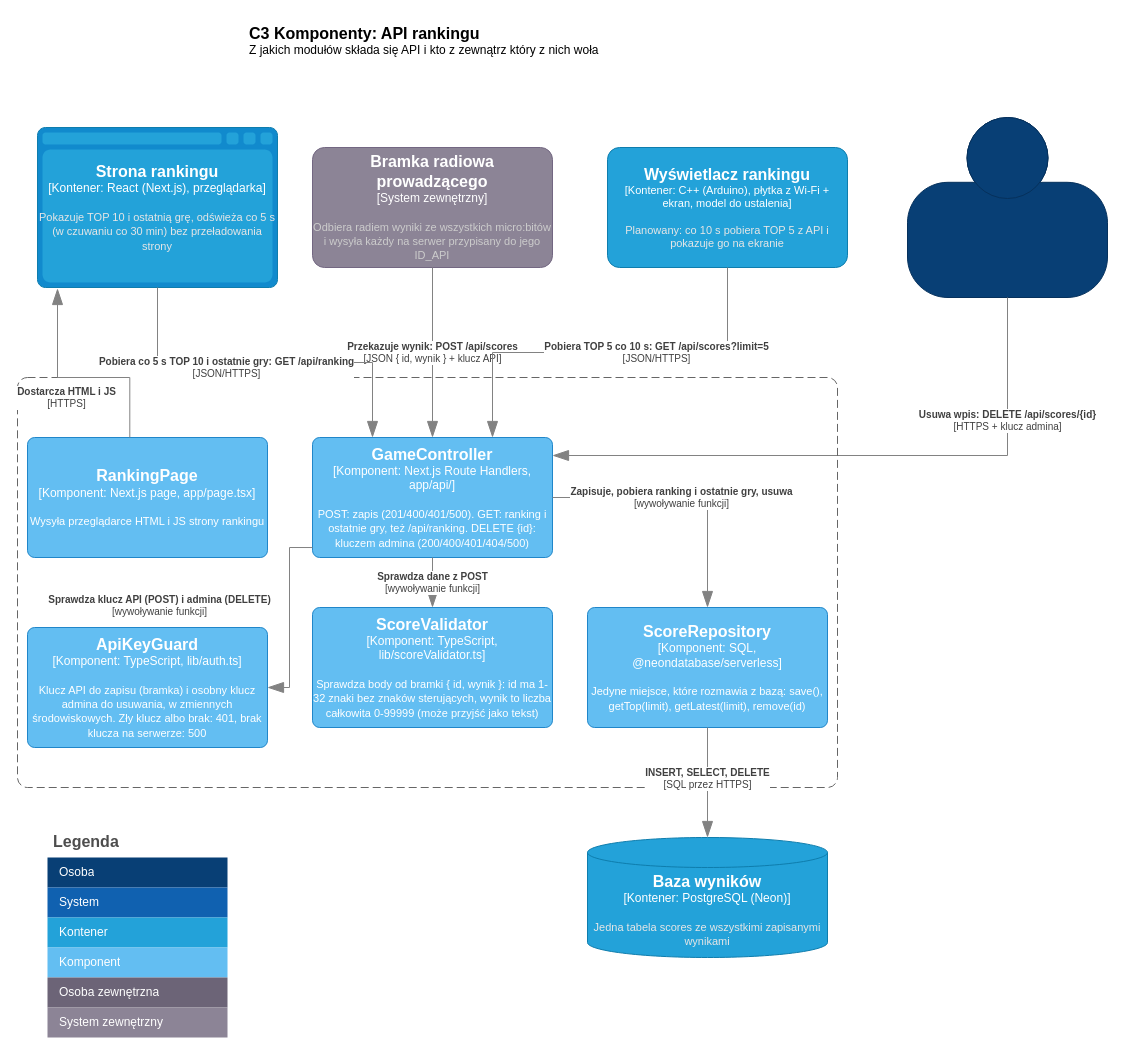
Image size: 1125x1054. Some labels were removed from this diagram. Each missing label, with the box of its shape:
Administrator [Osoba] Autor projektu. Usuwa z rankingu testowe i fałszywe wpisy: (906, 116, 1108, 298)
API rankingu [Kontener]: (16, 376, 838, 788)
